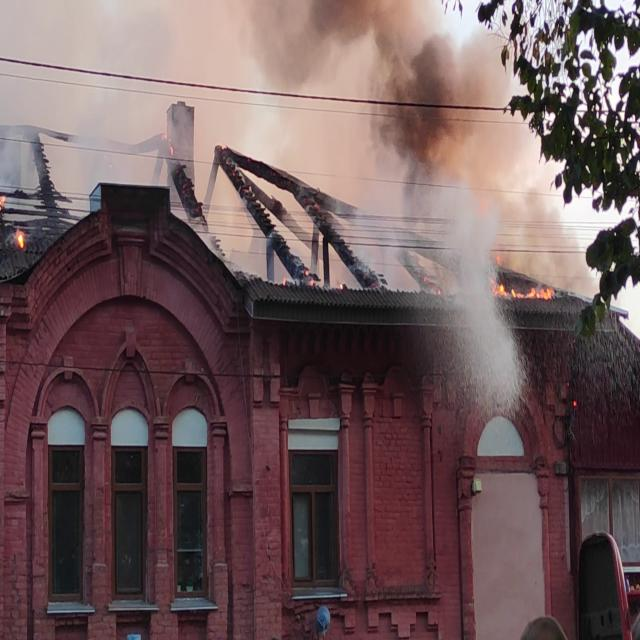fire: (487, 246, 556, 307)
smoke: (318, 0, 472, 203), (71, 38, 148, 160), (371, 234, 418, 296)
